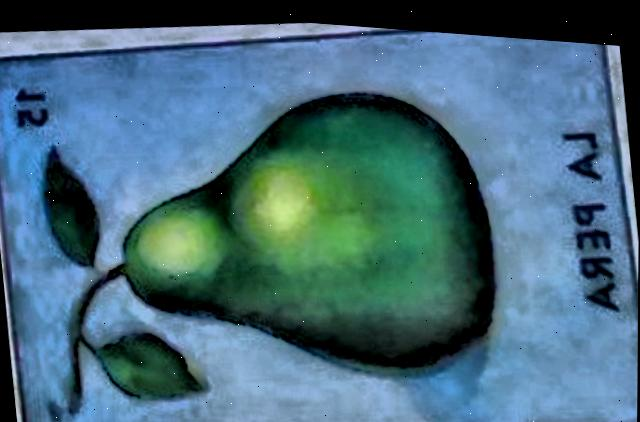La Pera: (0, 24, 639, 422)
